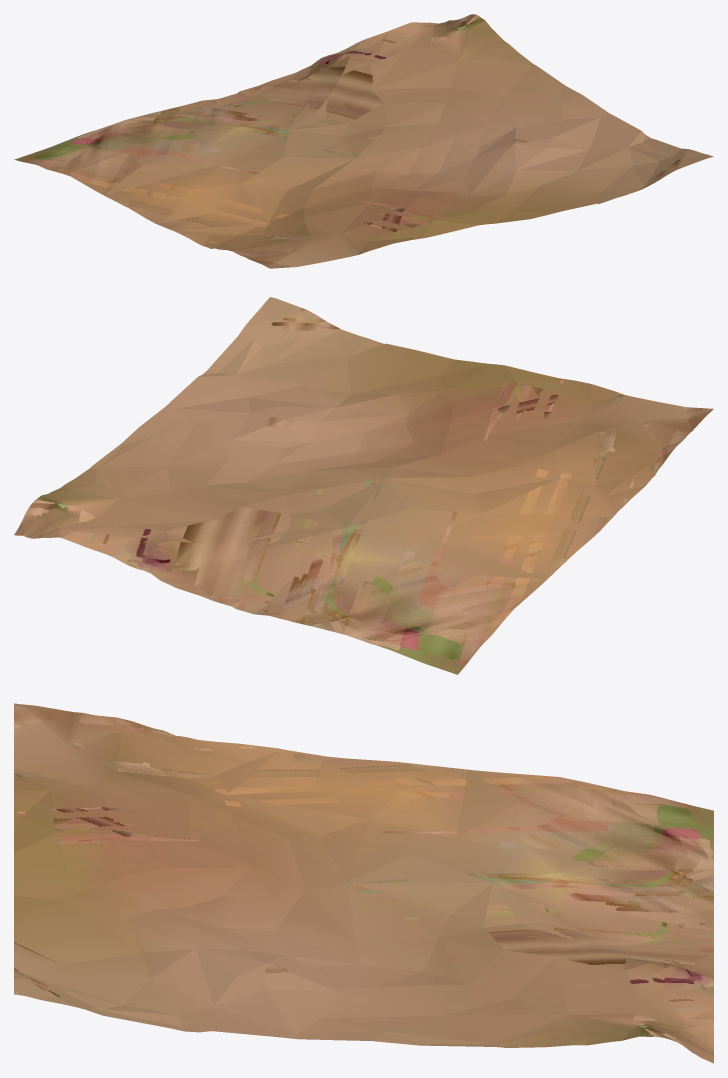
3 views of the same model, one above another, from view 1: azimuth 30°, elevation 25°; view 2: azimuth 150°, elevation 25°; view 3: azimuth 270°, elevation 25° (orthographic). The views are drawn at different scales.
Size of the model in its own units: 1.04 by 0.1847 by 1.04.
2 materials, 2 textured.
